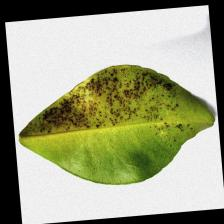canker: (26, 76, 158, 122)
